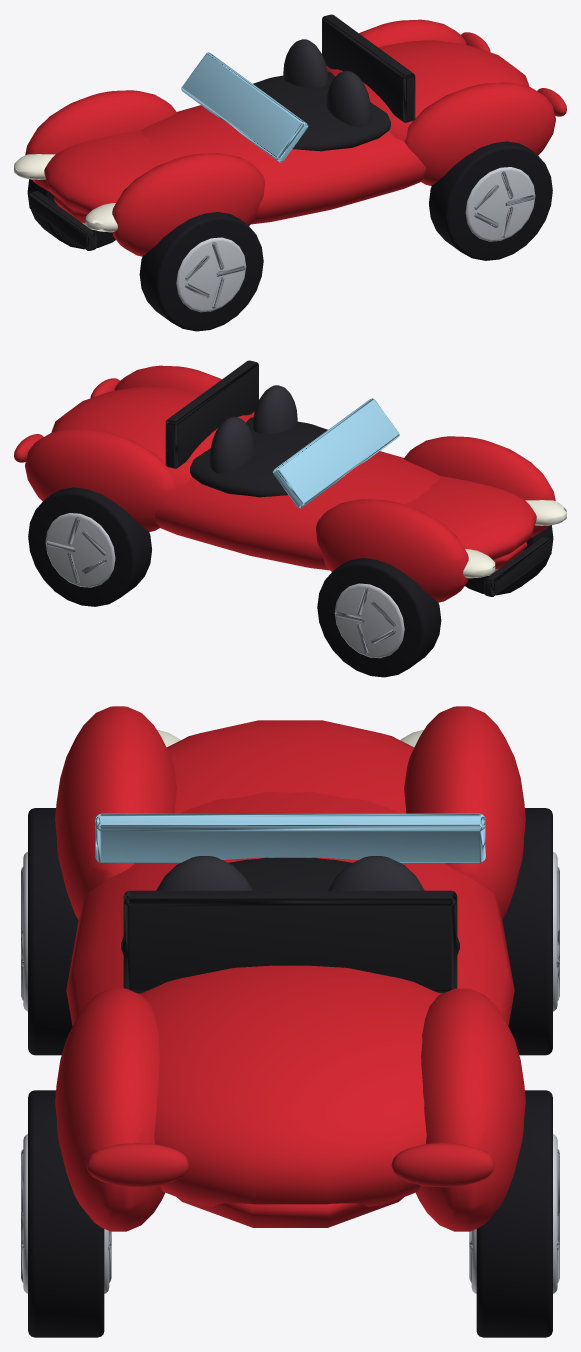
Rendered from roadster.glb.
The picture shows the model from 3 angles, top to bottom: view 1: azimuth 30°, elevation 25°; view 2: azimuth 150°, elevation 25°; view 3: azimuth 270°, elevation 25°; orthographic projection. The views are drawn at different scales.
Parts seen in each view (by area): view 1: roadster, wheelz_TD, wheelz_FD, wheelz_TE; view 2: roadster, wheelz_TE, wheelz_FE, wheelz_TD; view 3: roadster, wheelz_FE, wheelz_FD, wheelz_TE, wheelz_TD.
Boxes of the visible parts, x1,y1,x2,y2 form: roadster: [14, 14, 566, 308]; wheelz_TD: [139, 212, 263, 331]; wheelz_FD: [429, 141, 552, 260]; wheelz_TE: [27, 179, 115, 249]; roadster: [14, 360, 566, 654]; wheelz_TE: [317, 558, 441, 677]; wheelz_FE: [28, 487, 151, 606]; wheelz_TD: [465, 525, 553, 595]; roadster: [21, 706, 559, 1282]; wheelz_FE: [471, 1090, 557, 1337]; wheelz_FD: [23, 1090, 109, 1337]; wheelz_TE: [502, 808, 557, 1055]; wheelz_TD: [23, 808, 78, 1055].
Size of the model in its own units: 2.27 by 0.85 by 1.13.
